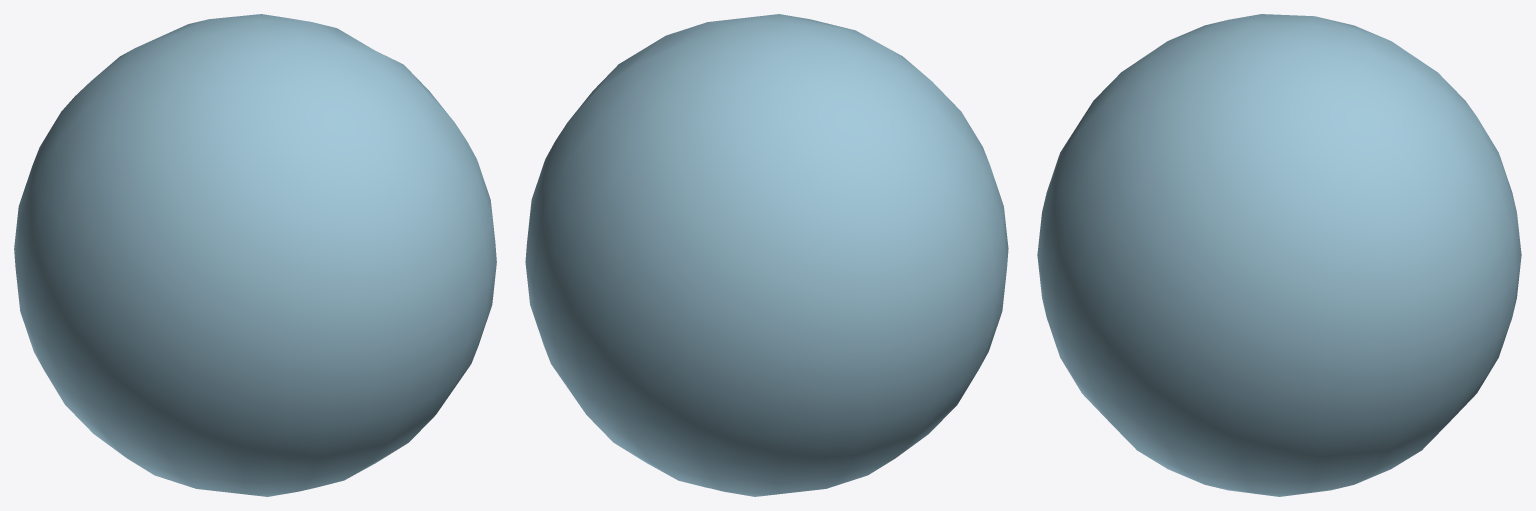
Rendered from articulacoes-nucleus-pulposus-l2-l3.glb.
The picture shows the model from 3 angles, left to right: view 1: azimuth 30°, elevation 25°; view 2: azimuth 150°, elevation 25°; view 3: azimuth 270°, elevation 25°; orthographic projection.
Parts seen in each view (by area): view 1: Nucleus pulposus L2-L3; view 2: Nucleus pulposus L2-L3; view 3: Nucleus pulposus L2-L3.
Boxes of the visible parts, bbox=[...] form: Nucleus pulposus L2-L3: bbox=[14, 14, 496, 496]; Nucleus pulposus L2-L3: bbox=[525, 14, 1008, 496]; Nucleus pulposus L2-L3: bbox=[1037, 14, 1521, 496].
Size of the model in its own units: 0.00944 by 0.00944 by 0.00944.
